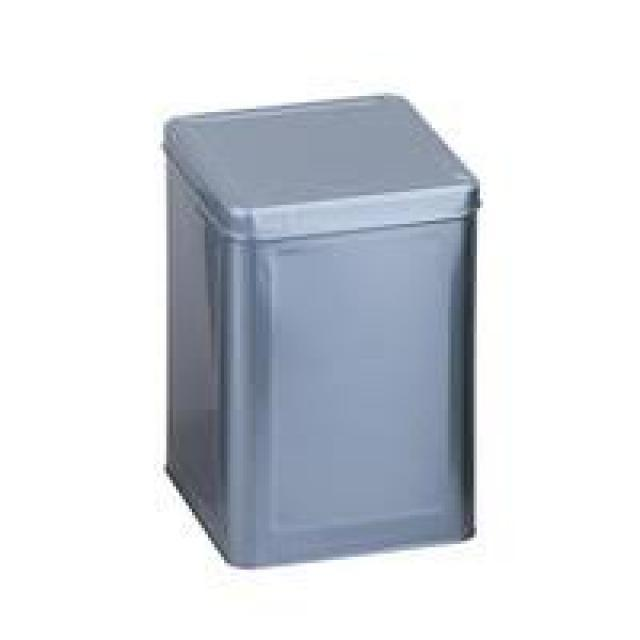recyclable: (164, 94, 483, 572)
